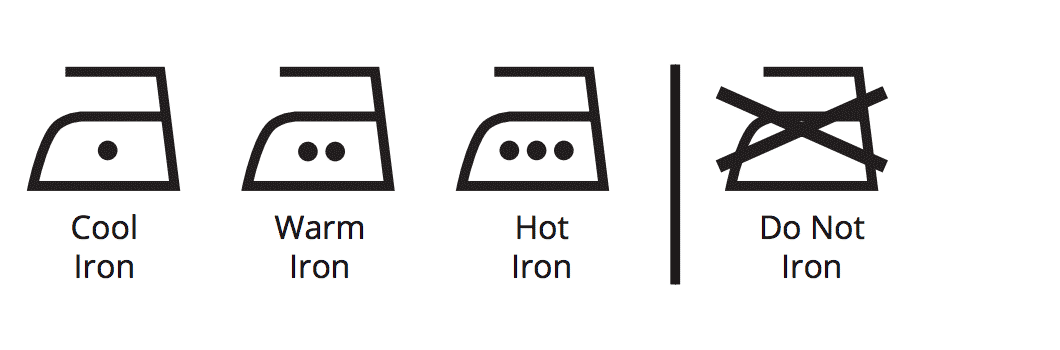do_not_iron: (717, 66, 885, 192)
